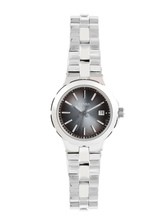watch: (46, 13, 128, 212)
